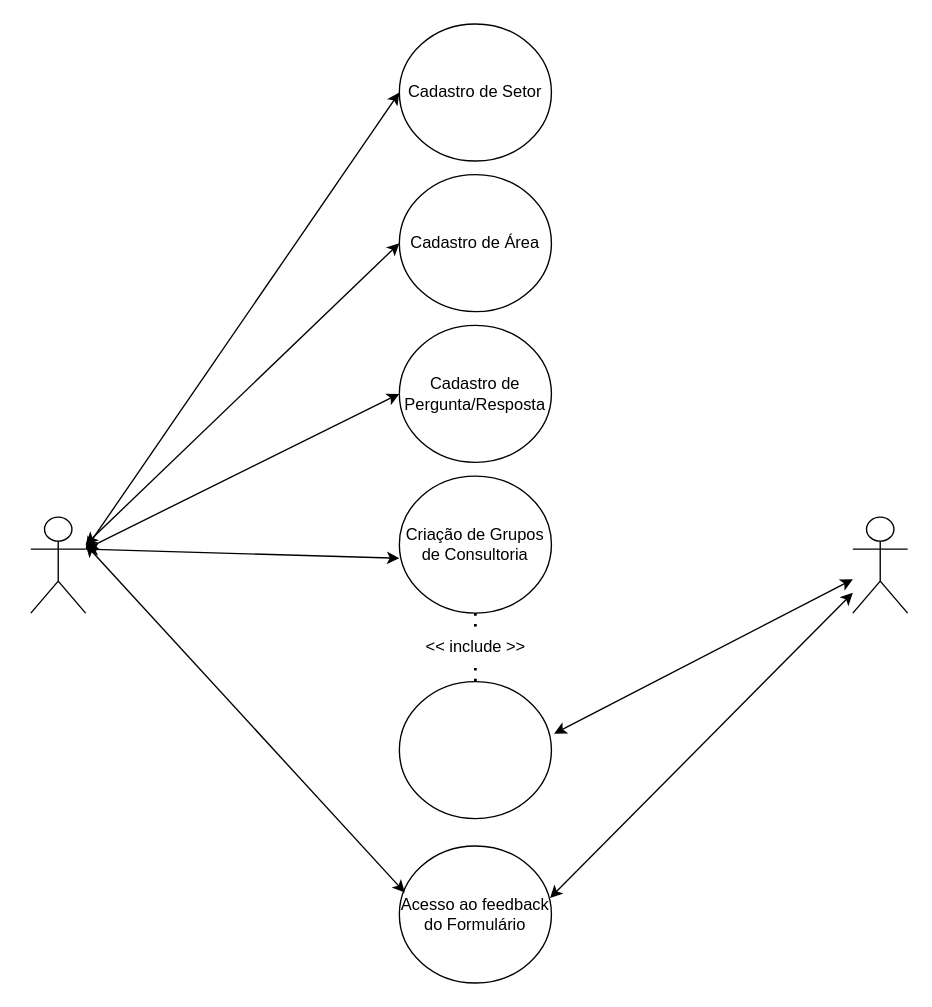
Some shapes in this 932 by 1007 pixel diagram are drawn without their labels. Here are the shapes that lost their labels. From the top down, the box of each, then its label:
(29, 516, 86, 613): Consultor
(851, 516, 908, 613): Cliente
(398, 680, 551, 819): Responder Formulário
